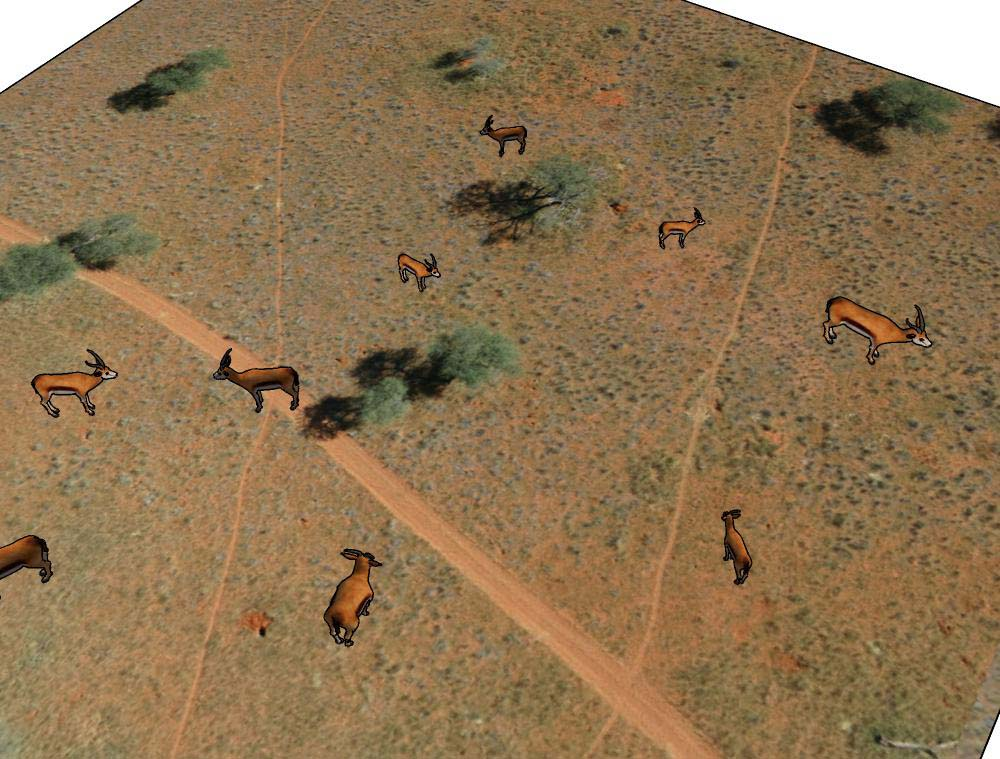springbok: (817, 291, 931, 369), (320, 542, 383, 652), (26, 345, 121, 417), (207, 349, 305, 417), (1, 535, 56, 601), (720, 509, 756, 591), (392, 247, 448, 297), (652, 210, 708, 253), (477, 118, 533, 160)
